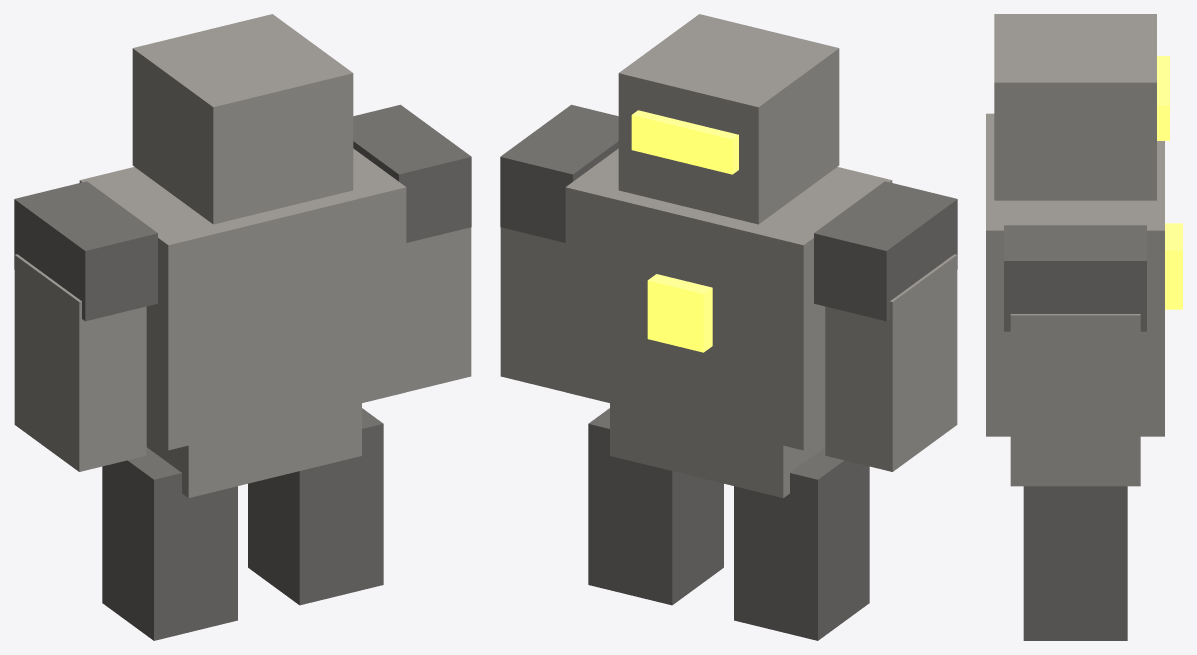
The model's file is guardian.glb.
The picture shows the model from 3 angles, left to right: view 1: azimuth 30°, elevation 25°; view 2: azimuth 150°, elevation 25°; view 3: azimuth 270°, elevation 25°; orthographic projection.
Parts seen in each view (by area): view 1: leg_l; view 2: leg_l; view 3: leg_l.
Part boxes in pixels (x1,y1,x2,y2): leg_l: (14,14,471,640); leg_l: (500,14,957,640); leg_l: (986,14,1182,640).
Size of the model in its own units: 1.4 by 1.82 by 0.605.
